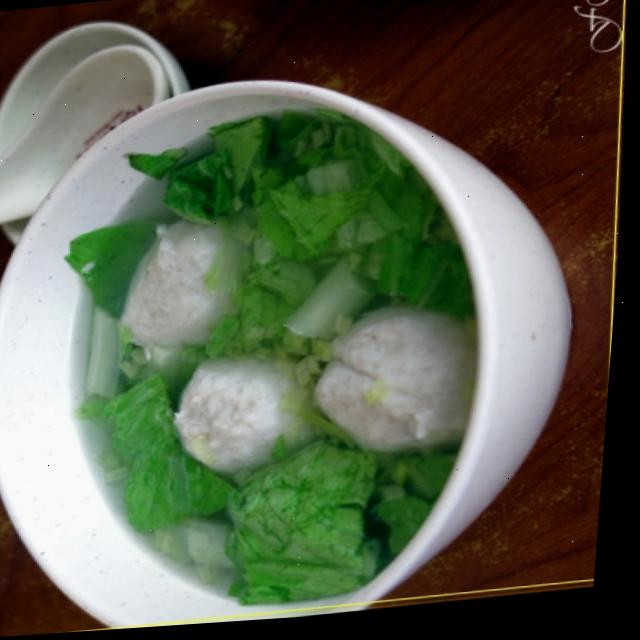熟制海鲜: (0, 62, 564, 632)
